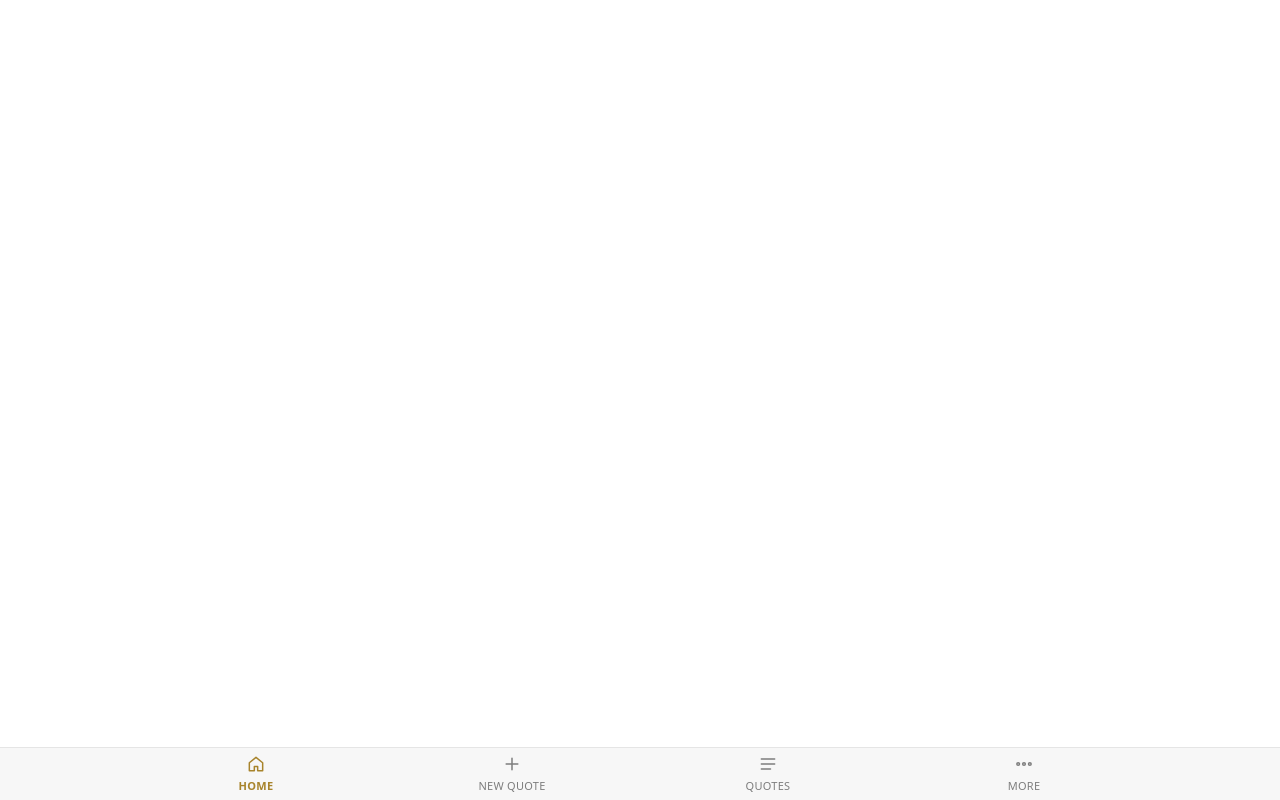
Test: TabBar More sheet (#49) › dismisses on a pointer press on the backdrop
This screenshot has width=1280, height=800.
Click the button "More" at (1024, 774), box [896,748,1152,799]
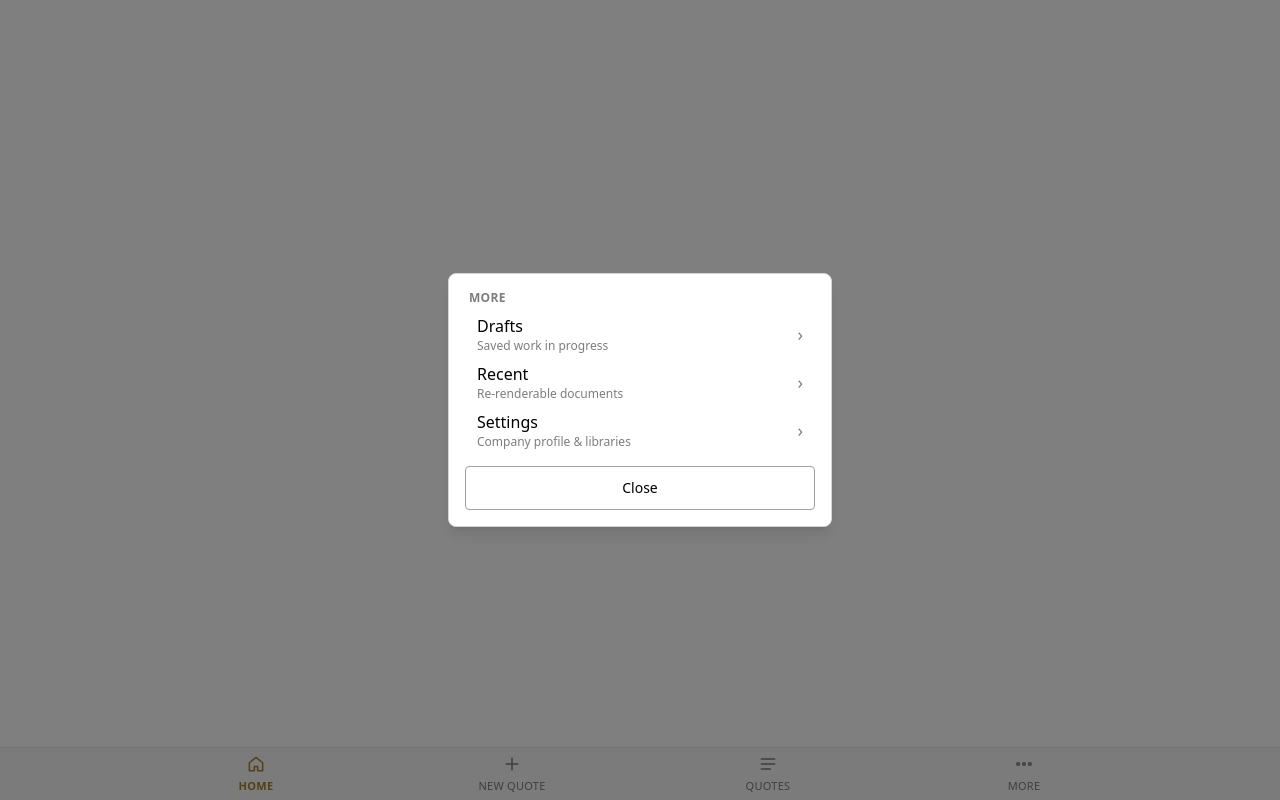
Press the mouse on the element that starts with "More" at (640, 400), box [0,0,1279,799]
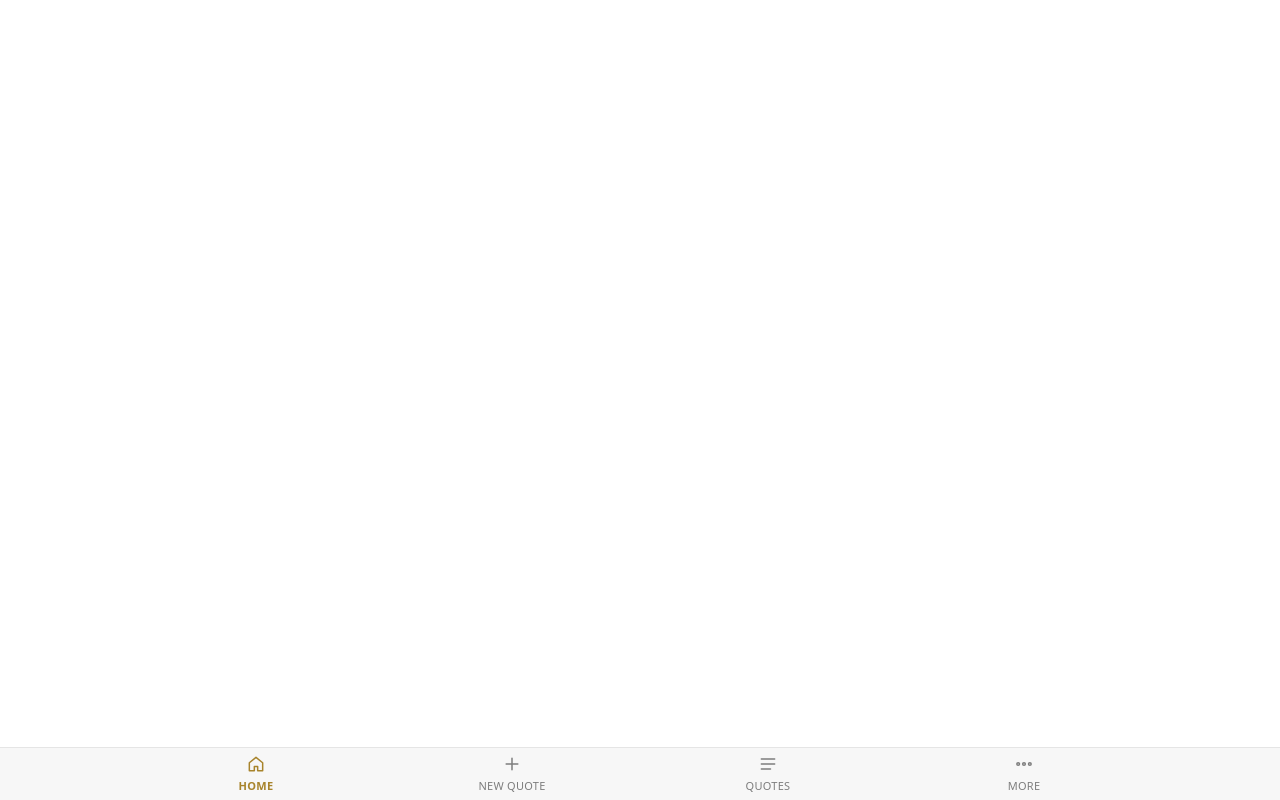
Result: the dialog is gone
